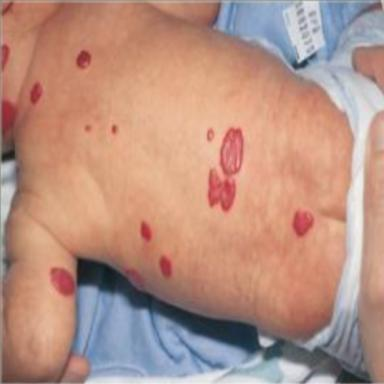Hemangiome: (220, 128, 244, 176), (208, 168, 235, 210), (50, 268, 74, 296), (293, 211, 313, 236), (1, 101, 16, 129), (160, 256, 173, 278), (30, 82, 43, 104), (77, 50, 91, 68), (140, 221, 152, 241), (1, 44, 10, 70)
